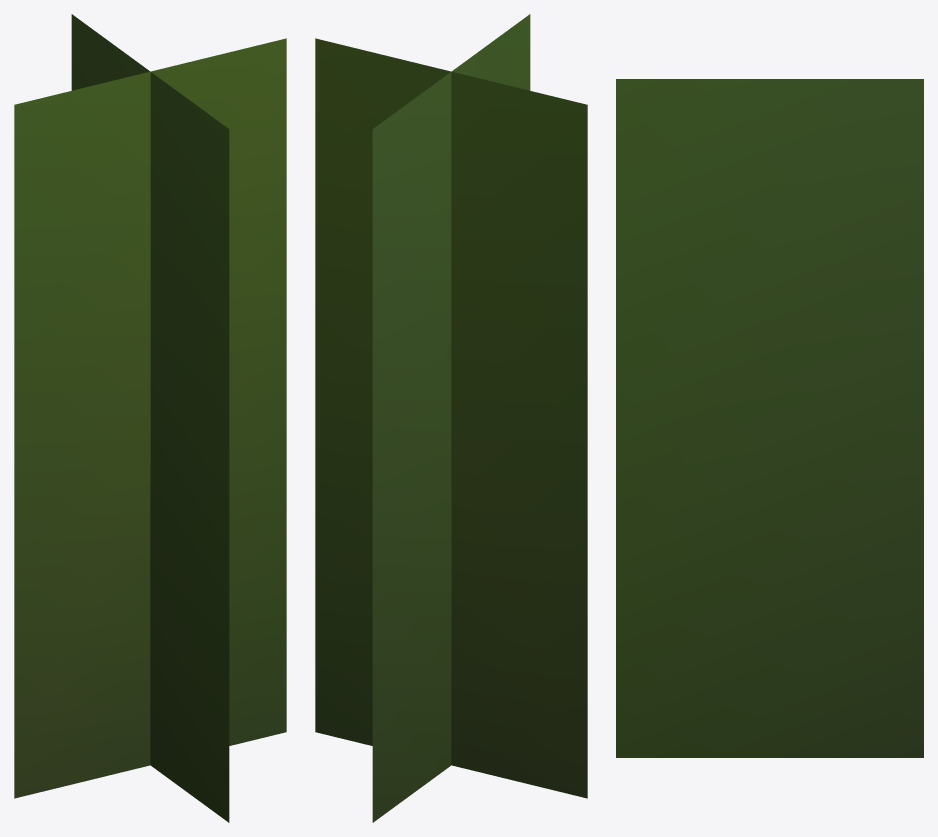
File: groundcover_bk_foret_broceliande_0000.glb
3 renders of one model, left to right at view 1: azimuth 30°, elevation 25°; view 2: azimuth 150°, elevation 25°; view 3: azimuth 270°, elevation 25°, orthographic. The views are drawn at different scales.
Parts seen in each view (by area): view 1: groundcover_bk_000; view 2: groundcover_bk_000; view 3: groundcover_bk_000.
Part boxes in pixels (x1,y1,x2,y2): groundcover_bk_000: (14, 14, 286, 822); groundcover_bk_000: (315, 14, 587, 822); groundcover_bk_000: (616, 79, 923, 757).
Size of the model in its own units: 0.2056 by 0.5 by 0.2056.
